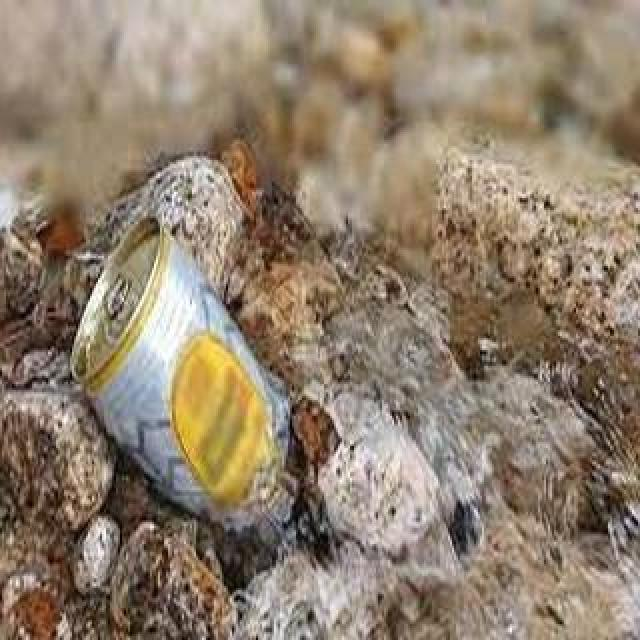Can: (62, 223, 278, 515)
